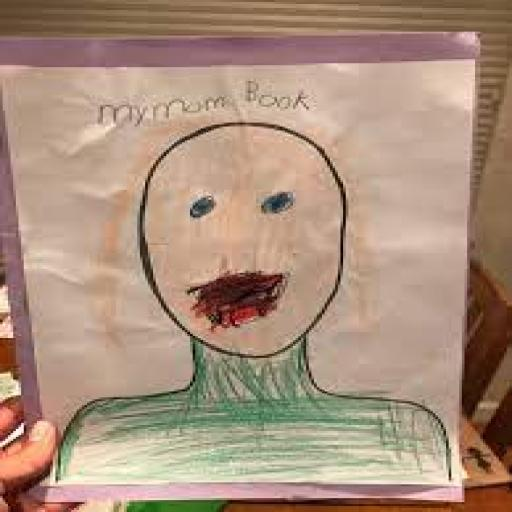person: (62, 120, 461, 485)
